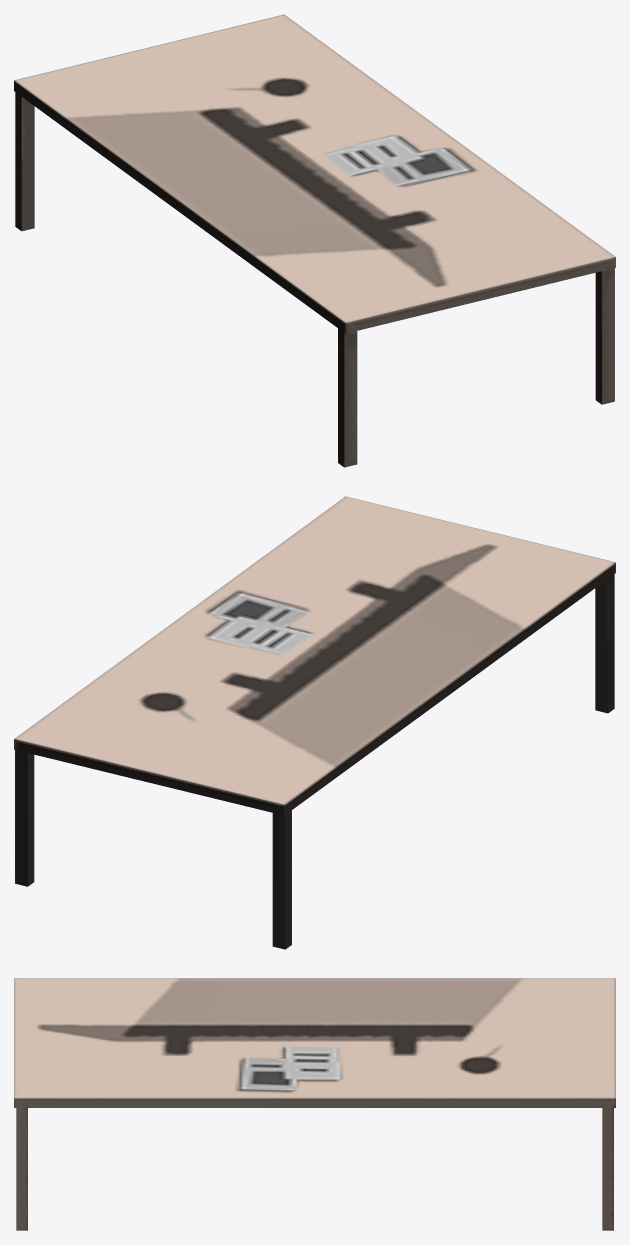
Rendered from Tx_prop_Table_art.fbx.
3 renders of one model, top to bottom at view 1: azimuth 30°, elevation 25°; view 2: azimuth 150°, elevation 25°; view 3: azimuth 270°, elevation 25°, orthographic. The views are drawn at different scales.
Parts seen in each view (by area): view 1: Tx_prop_Table_art; view 2: Tx_prop_Table_art; view 3: Tx_prop_Table_art.
Part boxes in pixels (x1,y1,x2,y2): Tx_prop_Table_art: (14, 14, 615, 467); Tx_prop_Table_art: (14, 496, 615, 949); Tx_prop_Table_art: (14, 978, 615, 1230).
Size of the model in its own units: 9.18 by 4.72 by 19.47.
